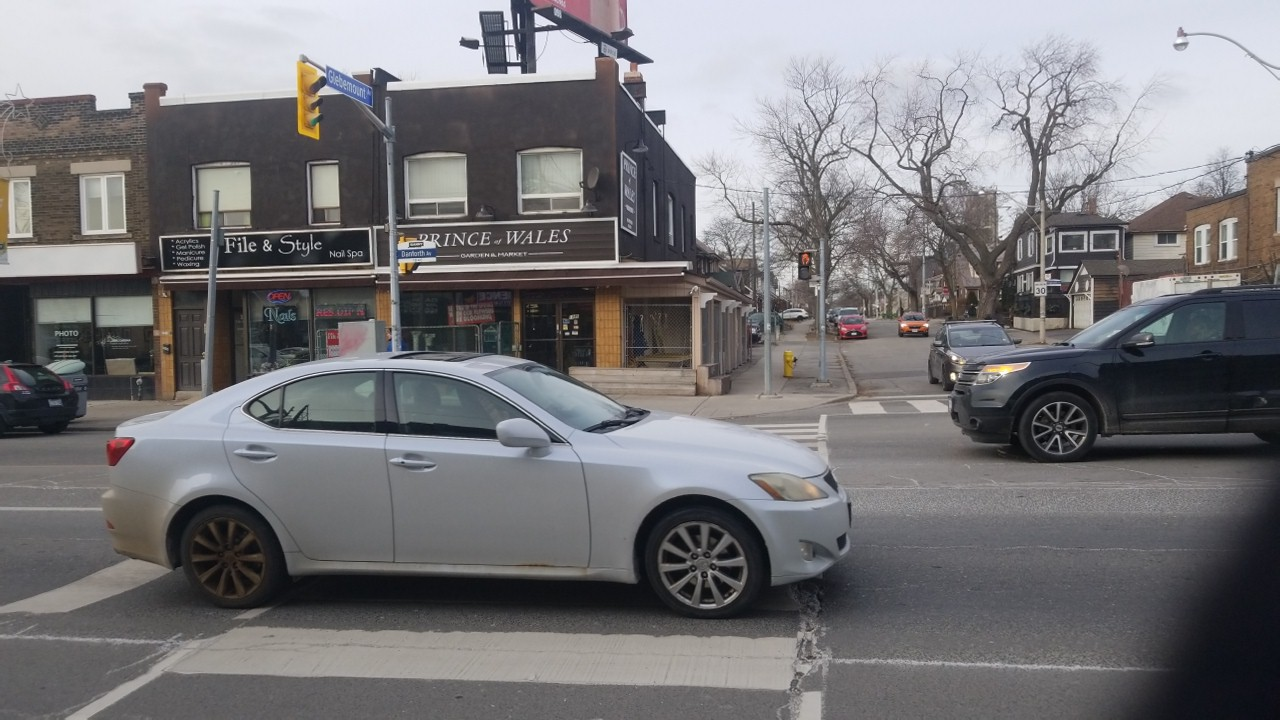light: (795, 250, 812, 281)
